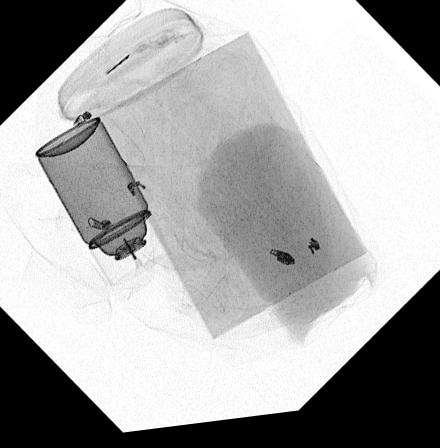Sprayer: (32, 116, 173, 290)
